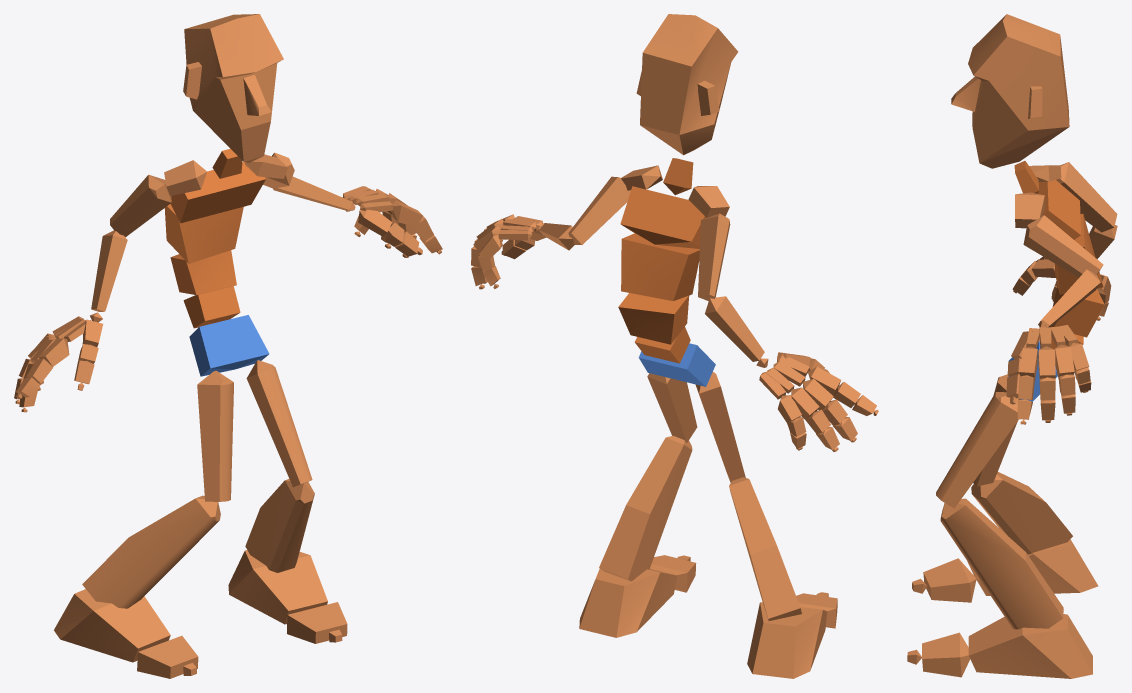
The model's file is prueba172.obj.
The picture shows the model from 3 angles, left to right: view 1: azimuth 30°, elevation 25°; view 2: azimuth 150°, elevation 25°; view 3: azimuth 270°, elevation 25°; orthographic projection. The views are drawn at different scales.
Parts seen in each view (by area): view 1: BOPED_Head, BOPED_R_leg, BOPED_R_foot, BOPED_R_foot01, BOPED_L_leg, BOPED_R_legup, BOPED_L_legup, Bone01, Bone04, Bone05, Bone03, BOPED_R_arm_upper (+8 smaller); view 2: BOPED_Head, BOPED_L_leg, BOPED_R_foot01, BOPED_R_foot, BOPED_R_leg, Bone04, Bone05, Bone03, BOPED_R_legup, BOPED_R_arm_upper, BOPED_L_legup, BOPED_L_arm_upper (+9 smaller); view 3: BOPED_Head, BOPED_L_leg, BOPED_R_foot01, BOPED_R_leg, BOPED_L_legup, BOPED_R_foot, BOPED_L_arm_upper, BOPED_R_foot_toe01, BOPED_R_arm_upper, BOPED_R_foot_toe04, Bone05, Bone03 (+15 smaller).
Part boxes in pixels (box(x1,y1,x2,y2)): BOPED_Head: box(183, 14, 283, 162); BOPED_R_leg: box(82, 495, 220, 608); BOPED_R_foot: box(54, 589, 170, 662); BOPED_R_foot01: box(228, 550, 327, 624); BOPED_L_leg: box(245, 479, 314, 572); BOPED_R_legup: box(197, 371, 233, 501); BOPED_L_legup: box(246, 360, 312, 487); Bone01: box(189, 315, 269, 376); Bone04: box(164, 204, 243, 263); Bone05: box(170, 162, 265, 223); Bone03: box(170, 250, 236, 294); BOPED_R_arm_upper: box(110, 174, 171, 237); BOPED_Head: box(636, 14, 738, 155); BOPED_L_leg: box(599, 435, 692, 581); BOPED_R_foot01: box(579, 568, 677, 637); BOPED_R_foot: box(747, 602, 827, 678); BOPED_R_leg: box(729, 477, 801, 620); Bone04: box(621, 233, 699, 301); Bone05: box(620, 186, 706, 248); Bone03: box(618, 293, 689, 344); BOPED_R_legup: box(695, 372, 745, 482); BOPED_R_arm_upper: box(698, 213, 730, 300); BOPED_L_legup: box(647, 373, 697, 442); BOPED_L_arm_upper: box(568, 176, 630, 244); BOPED_Head: box(951, 14, 1069, 168); BOPED_L_leg: box(940, 498, 1063, 629); BOPED_R_foot01: box(968, 614, 1092, 678); BOPED_R_leg: box(971, 472, 1072, 554); BOPED_L_legup: box(936, 392, 1018, 508); BOPED_R_foot: box(967, 539, 1098, 595); BOPED_L_arm_upper: box(1023, 215, 1103, 277); BOPED_R_foot_toe01: box(923, 558, 976, 602); BOPED_R_arm_upper: box(1056, 162, 1117, 232); BOPED_R_foot_toe04: box(922, 632, 970, 677); Bone05: box(1037, 180, 1080, 239); Bone03: box(1052, 286, 1104, 337).
Bounding box in the file's own units: 130 × 181 × 55.95.
